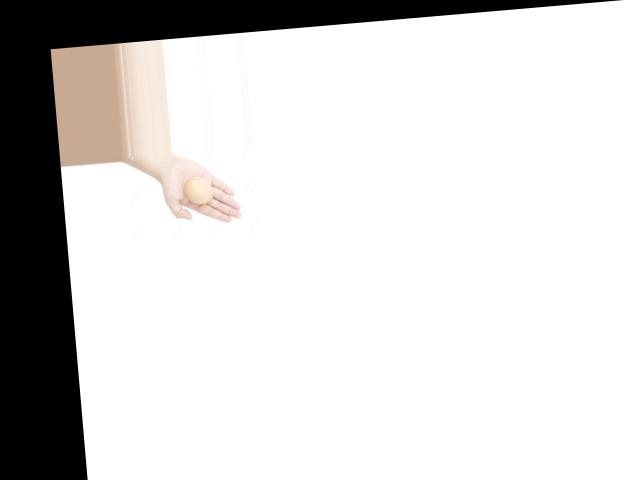egg: (182, 175, 212, 204)
